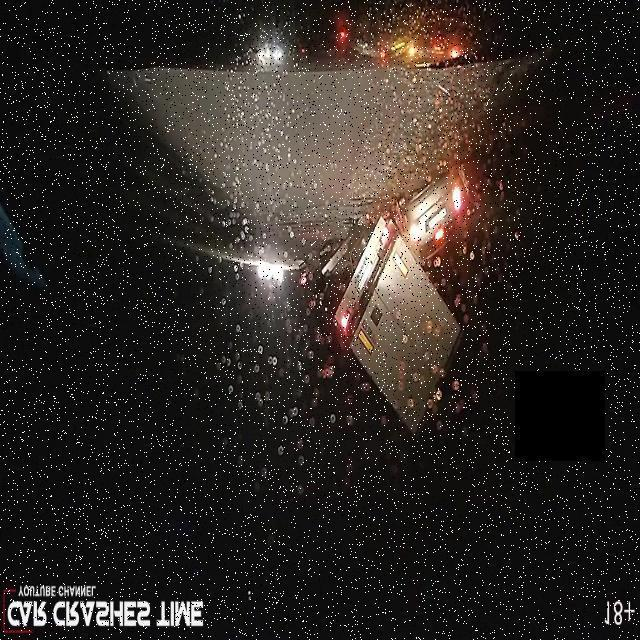person: (305, 132, 522, 440)
